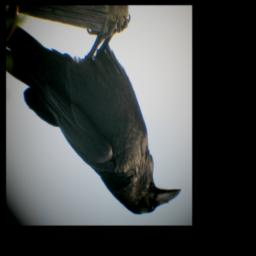Crow: (6, 14, 183, 217)
